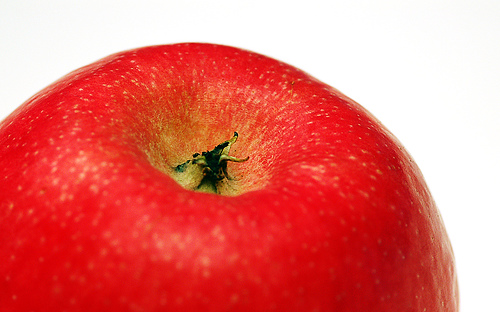apple: (0, 42, 462, 311)
